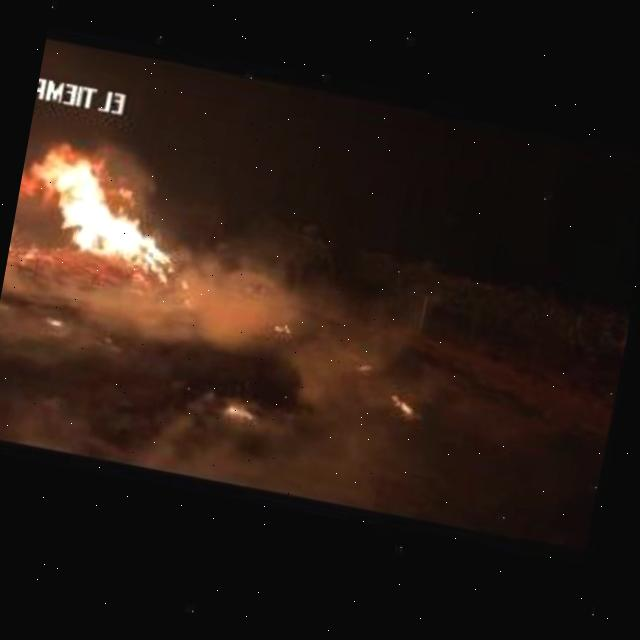fire: (4, 126, 227, 310), (217, 407, 255, 429)
